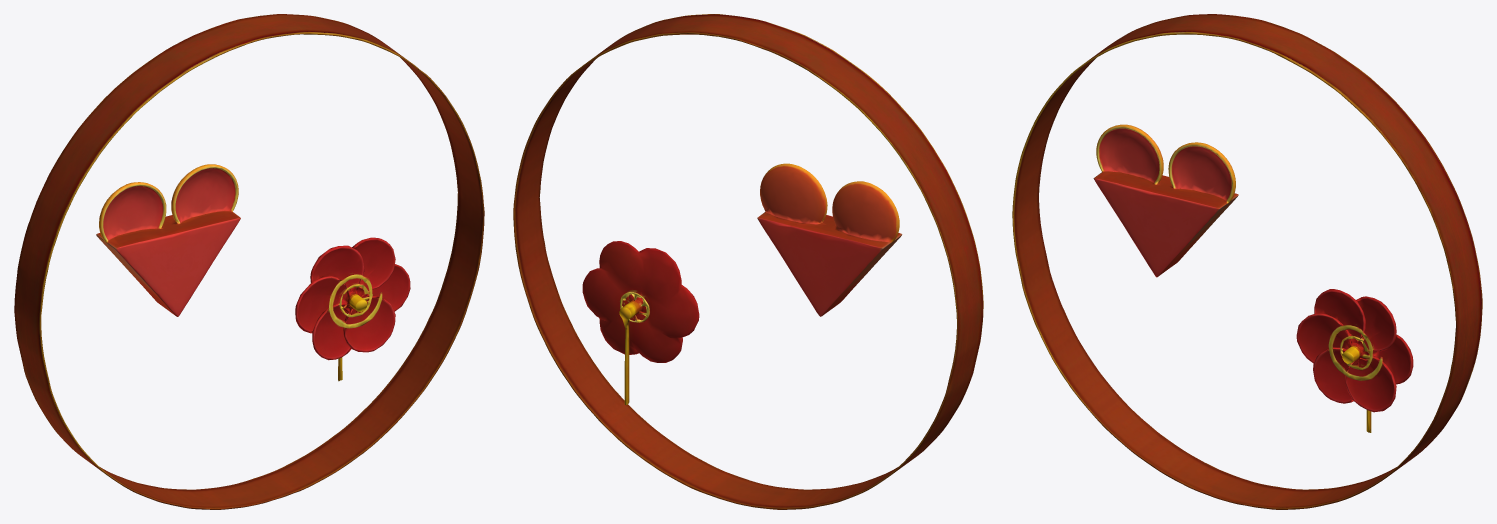
Rendered from asmodeus-sigilo.glb.
3 views of the same model, side by side, from view 1: azimuth 30°, elevation 25°; view 2: azimuth 150°, elevation 25°; view 3: azimuth 330°, elevation 25° (orthographic).
Visible parts, largest first — view 1: tripo_node_4b34e248-3935-483b-b1ba-84a2545674cd; view 2: tripo_node_4b34e248-3935-483b-b1ba-84a2545674cd; view 3: tripo_node_4b34e248-3935-483b-b1ba-84a2545674cd.
Boxes of the visible parts, x1=… form: tripo_node_4b34e248-3935-483b-b1ba-84a2545674cd: x1=14, y1=14, x2=484, y2=509; tripo_node_4b34e248-3935-483b-b1ba-84a2545674cd: x1=513, y1=14, x2=983, y2=509; tripo_node_4b34e248-3935-483b-b1ba-84a2545674cd: x1=1012, y1=14, x2=1482, y2=509.
Size of the model in its own units: 0.9799 by 0.979 by 0.1148.
1 material, 1 textured.
